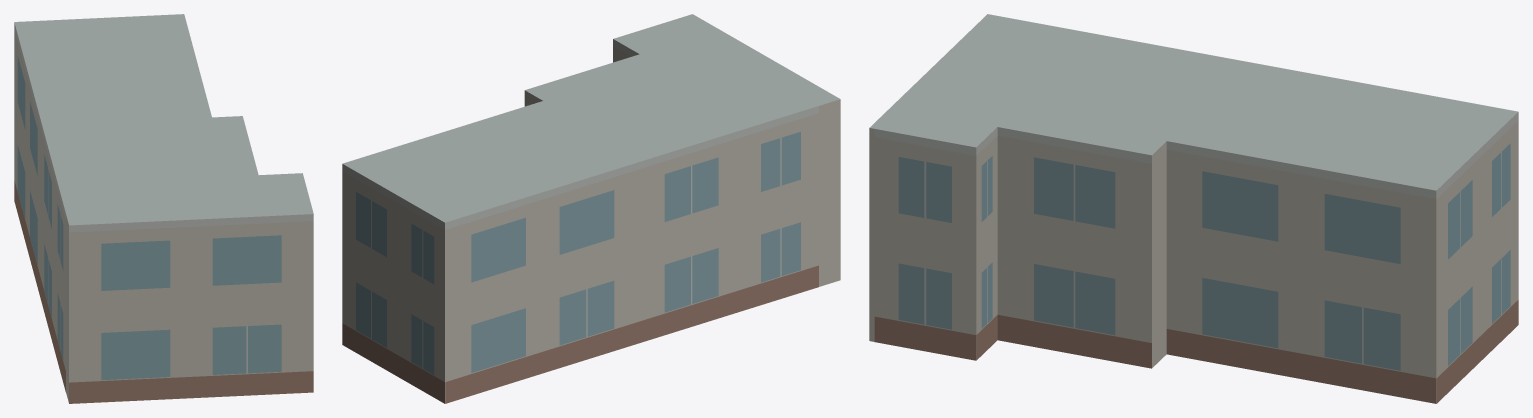
Rendered from survey-upis-32471322.glb.
3 renders of one model, left to right at view 1: azimuth 30°, elevation 25°; view 2: azimuth 150°, elevation 25°; view 3: azimuth 270°, elevation 25°, orthographic. The views are drawn at different scales.
Parts seen in each view (by area): view 1: survey-upis-32471322.tmp; view 2: survey-upis-32471322.tmp; view 3: survey-upis-32471322.tmp.
Boxes of the visible parts, <box> form: survey-upis-32471322.tmp: <box>14,14,313,403</box>; survey-upis-32471322.tmp: <box>342,14,840,403</box>; survey-upis-32471322.tmp: <box>869,14,1518,403</box>.
Bounding box in the file's own units: 10.85 × 6.1 × 16.85.
